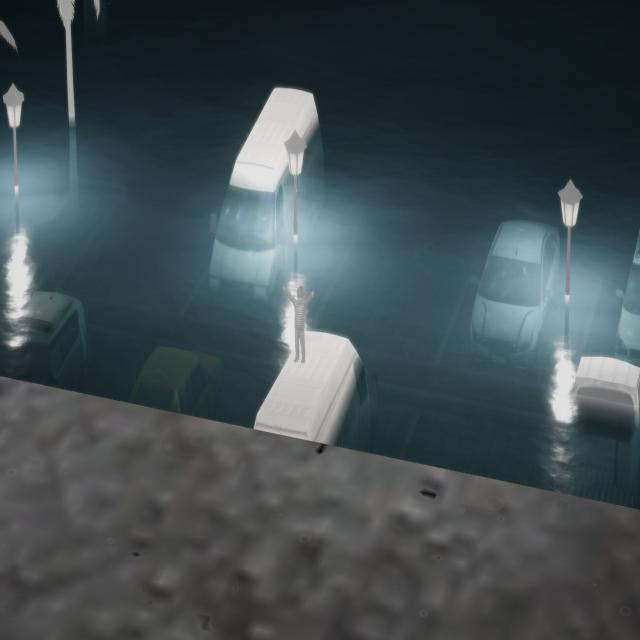Human: (283, 279, 316, 376)
